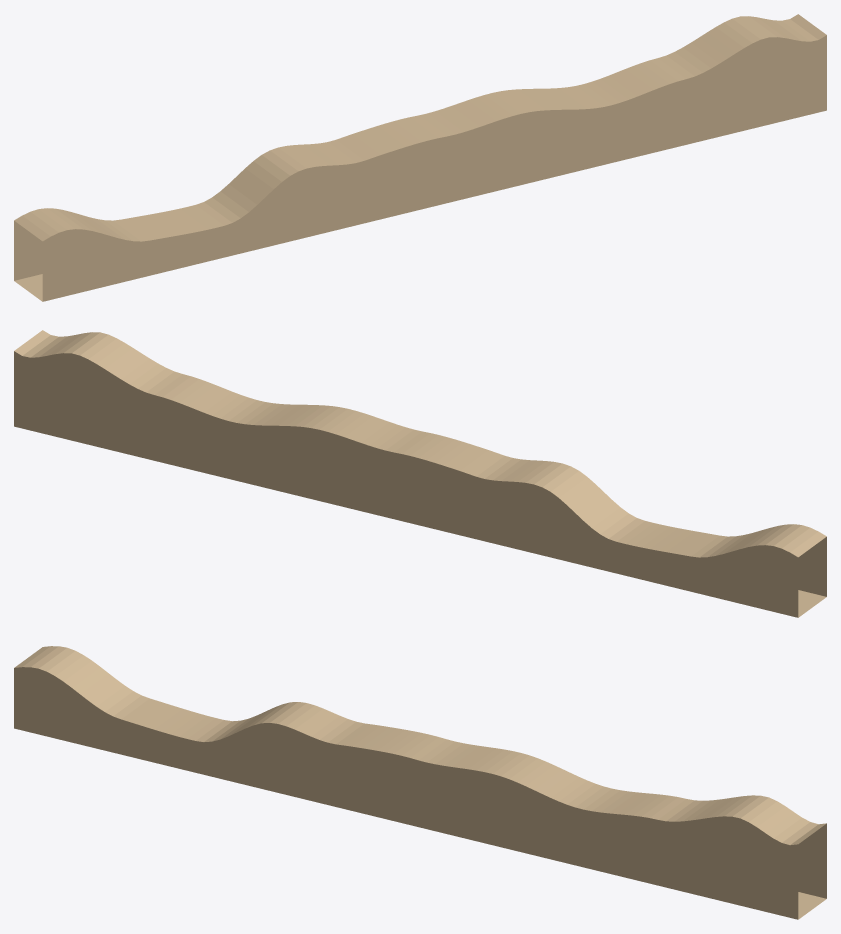
File: backdrop_desert_near.glb
The picture shows the model from 3 angles, top to bottom: view 1: azimuth 30°, elevation 25°; view 2: azimuth 150°, elevation 25°; view 3: azimuth 330°, elevation 25°; orthographic projection.
Parts seen in each view (by area): view 1: DesertNear; view 2: DesertNear; view 3: DesertNear.
Part boxes in pixels (bbox=[...]): DesertNear: bbox=[14, 14, 826, 301]; DesertNear: bbox=[14, 330, 826, 617]; DesertNear: bbox=[14, 646, 826, 919].
Size of the model in its own units: 60 by 6.38 by 3.8.
